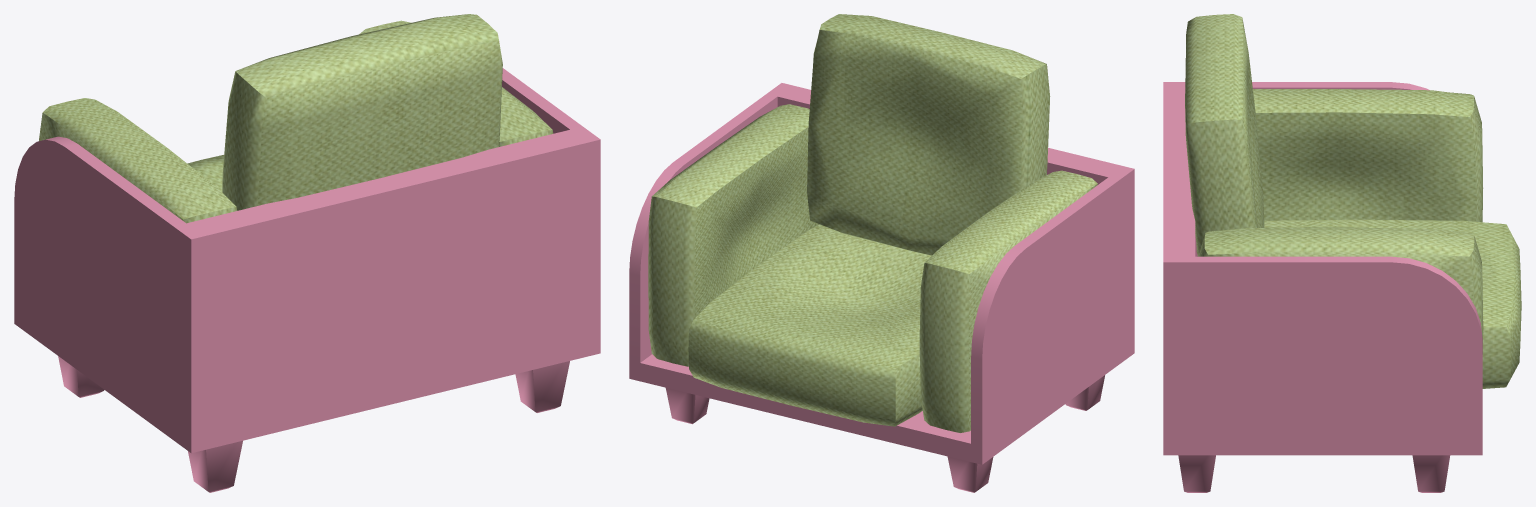
File: furniture_seating_210061.glb
3 renders of one model, left to right at view 1: azimuth 30°, elevation 25°; view 2: azimuth 150°, elevation 25°; view 3: azimuth 270°, elevation 25°, orthographic. The views are drawn at different scales.
Visible parts, largest first — view 1: furniture_seating_210061; view 2: furniture_seating_210061; view 3: furniture_seating_210061.
Part boxes in pixels (bbox=[...]): furniture_seating_210061: bbox=[14, 14, 600, 492]; furniture_seating_210061: bbox=[629, 14, 1134, 492]; furniture_seating_210061: bbox=[1163, 14, 1521, 492].
Bounding box in the file's own units: 0.9557 × 0.8823 × 0.8029.
Materials: 1 (1 with a texture image).
